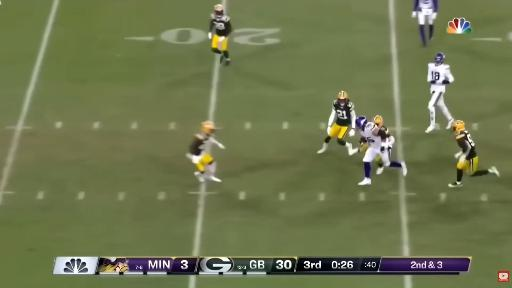Helmet: (202, 121, 216, 134), (452, 120, 465, 133), (356, 116, 367, 129), (214, 4, 224, 18), (338, 91, 348, 104), (435, 53, 445, 65), (373, 115, 383, 127)
Jersey: (428, 63, 454, 92), (360, 123, 385, 149), (456, 131, 476, 159), (333, 100, 353, 126), (210, 14, 231, 36), (189, 133, 209, 156), (414, 0, 437, 12), (380, 126, 390, 138)
Player: (356, 117, 407, 185), (449, 120, 499, 187), (318, 91, 355, 154), (187, 121, 224, 182), (426, 53, 454, 132), (208, 4, 232, 65), (412, 0, 438, 46), (373, 115, 394, 158)
